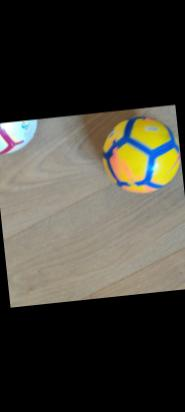Football mini: (94, 112, 182, 200)
